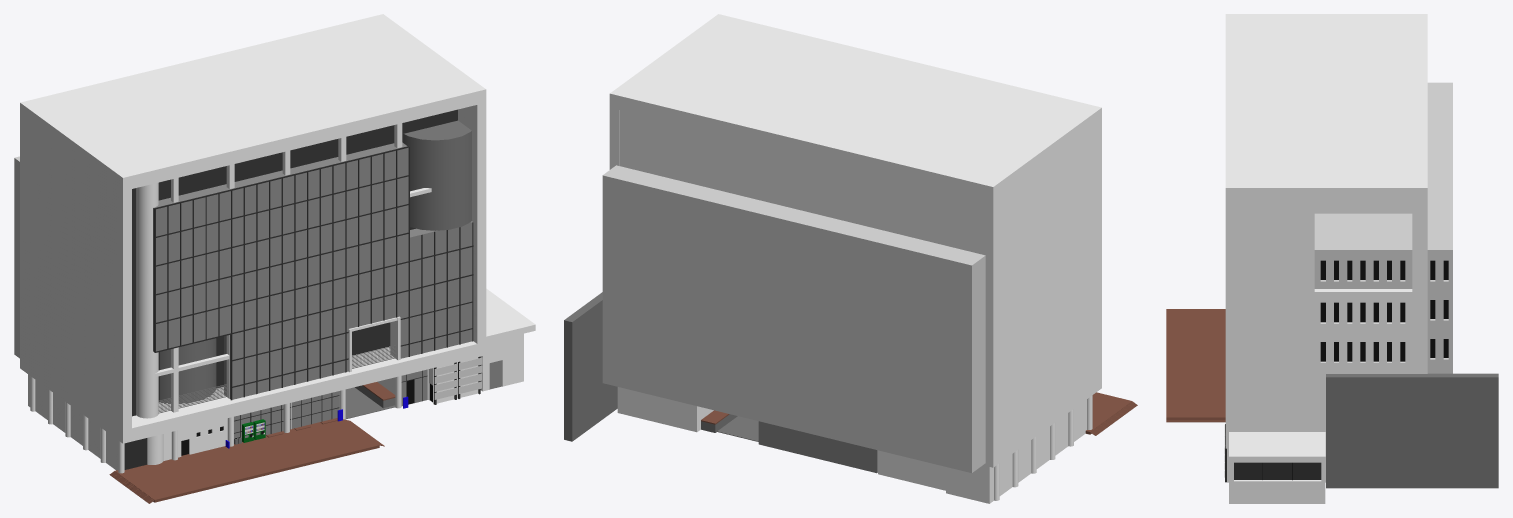
Rendered from haksul.fbx.
3 views of the same model, side by side, from view 1: azimuth 30°, elevation 25°; view 2: azimuth 150°, elevation 25°; view 3: azimuth 270°, elevation 25° (orthographic). The views are drawn at different scales.
Visible parts, largest first — view 1: Box001, Box015, Box222, Box012, Box016, Cylinder008, Box017, Cylinder001, Box013, Cylinder009, Box128, Box208 (+12 smaller); view 2: Box223, Box001, Box221, Box227, Box208, Box128, Box102, Box125, Box222, Box219; view 3: Box001, Box227, Box223, Box222, Box229, Box228, Box226, Box230, Box225.
Boxes of the visible parts, x1,y1,x2,y2 form: Box001: (20,14,486,443); Box015: (153,142,408,351); Box222: (115,418,379,502); Box012: (224,302,350,399); Box016: (398,221,472,345); Cylinder008: (403,120,471,230); Box017: (158,109,457,401); Cylinder001: (136,182,158,418); Box013: (398,248,472,358); Cylinder009: (160,338,216,403); Box128: (234,391,339,437); Box208: (28,374,118,470); Box223: (602,165,985,472); Box001: (609,14,1101,467); Box221: (619,110,983,254); Box227: (564,292,617,441); Box208: (946,399,1086,503); Box128: (758,421,877,473); Box102: (617,387,713,432); Box125: (878,450,945,490); Box222: (1085,392,1132,434); Box219: (717,416,758,441); Box001: (1225,14,1427,448); Box227: (1326,373,1498,488); Box223: (1314,82,1452,373); Box222: (1166,309,1225,417); Box229: (1229,432,1325,462); Box228: (1229,462,1325,503); Box226: (1320,302,1405,361); Box230: (1234,462,1321,479); Box225: (1320,260,1448,357).
Size of the model in its own units: 824 by 578 by 570.
